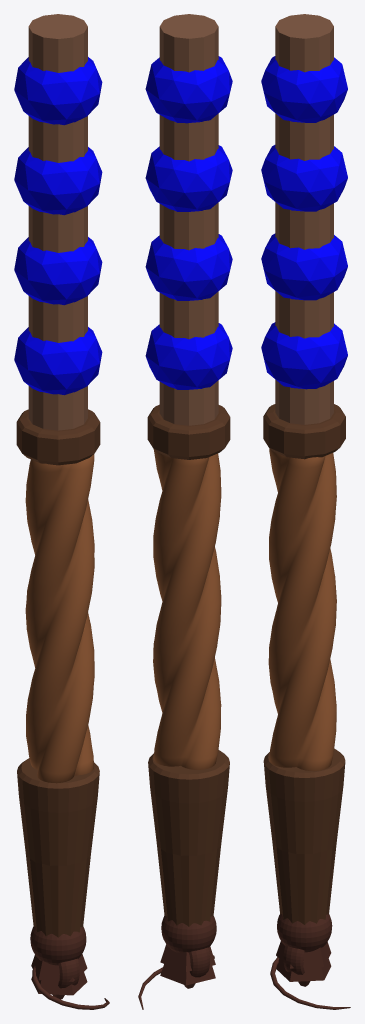
Rendered from Wand 838.glb.
3 views of the same model, side by side, from view 1: azimuth 30°, elevation 25°; view 2: azimuth 210°, elevation 25°; view 3: azimuth 330°, elevation 25° (orthographic).
Parts seen in each view (by area): view 1: GeneratedWand, Pommel_4, Pommel_9, Pommel_2, Pommel_10; view 2: GeneratedWand, Pommel_4, Pommel_9, Pommel_2; view 3: GeneratedWand, Pommel_4, Pommel_9, Pommel_2, Pommel_10.
Part boxes in pixels (x1,y1,x2,y2): GeneratedWand: (14,14,102,981); Pommel_4: (30,926,86,965); Pommel_9: (31,972,87,995); Pommel_2: (58,958,79,988); Pommel_10: (32,965,109,1009); GeneratedWand: (145,14,232,971); Pommel_4: (161,915,216,952); Pommel_9: (160,964,215,985); Pommel_2: (189,947,209,977); GeneratedWand: (261,14,347,968); Pommel_4: (277,914,332,952); Pommel_9: (276,958,331,981); Pommel_2: (283,945,304,974); Pommel_10: (270,957,350,1009).
Size of the model in its own units: 0.0462 by 0.5158 by 0.0428.
